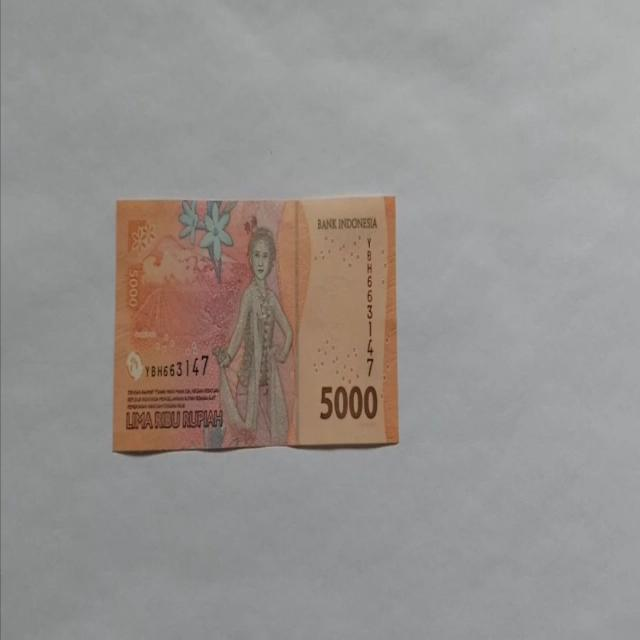lima ribu rupiah: (112, 193, 399, 454), (212, 226, 294, 447)
